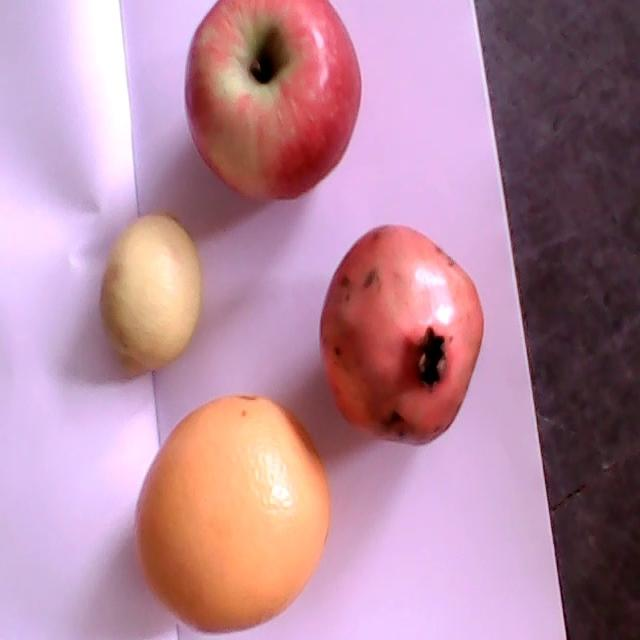apple: (186, 0, 362, 201)
lemon: (98, 210, 203, 377)
orange: (136, 394, 330, 637)
pomegranate: (319, 221, 483, 442)
